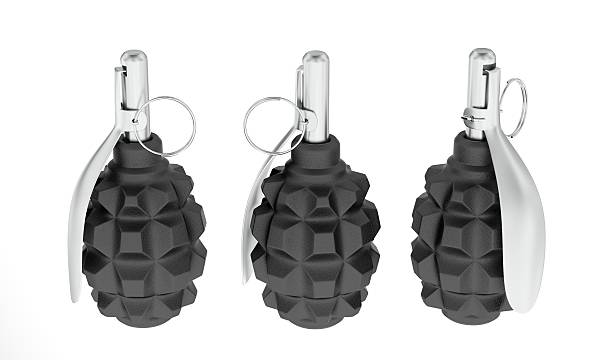e1: (68, 50, 209, 331), (242, 50, 380, 327), (420, 48, 550, 330)
